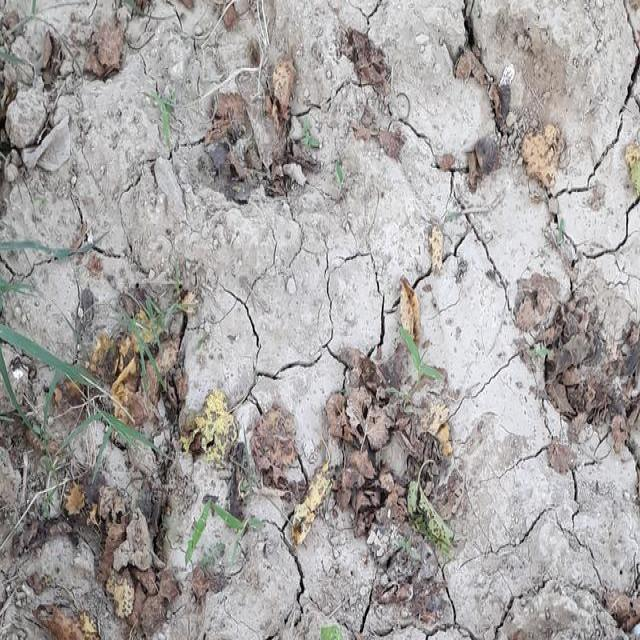weed: (6, 230, 182, 451), (401, 325, 443, 397), (181, 510, 238, 558), (151, 86, 181, 150)
